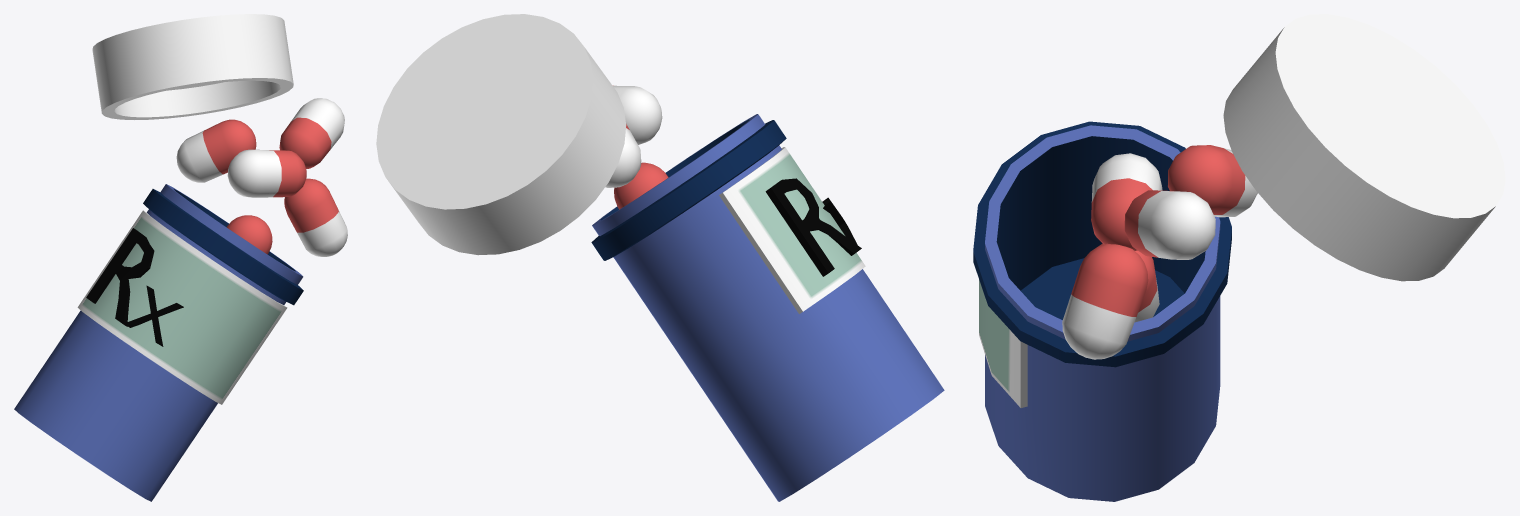
Rendered from Drugs.fbx.
3 views of the same model, side by side, from view 1: azimuth 30°, elevation 25°; view 2: azimuth 150°, elevation 25°; view 3: azimuth 270°, elevation 25° (orthographic). The views are drawn at different scales.
Visible parts, largest first — view 1: Cylinder; view 2: Cylinder; view 3: Cylinder.
Part boxes in pixels (box(x1,y1,x2,y2)): Cylinder: box(14, 14, 347, 501); Cylinder: box(376, 14, 944, 501); Cylinder: box(973, 14, 1505, 501).
Bounding box in the file's own units: 228 × 250 × 214.
